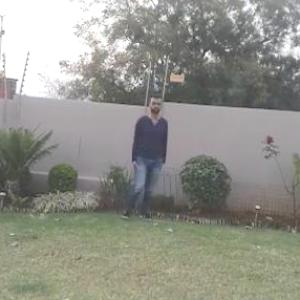follow: (123, 93, 167, 231)
